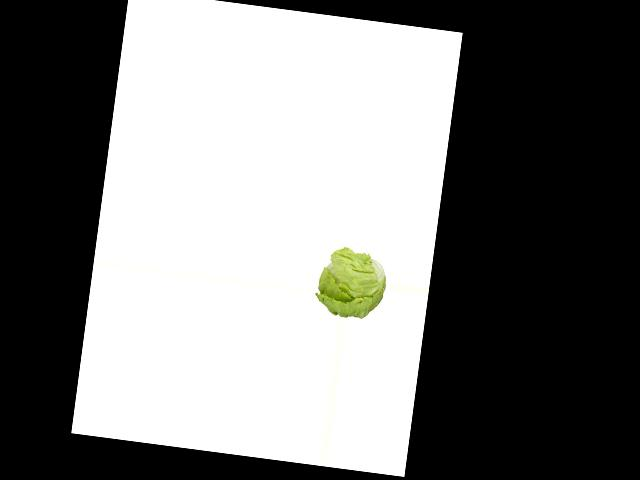lettuce: (314, 247, 391, 322)
